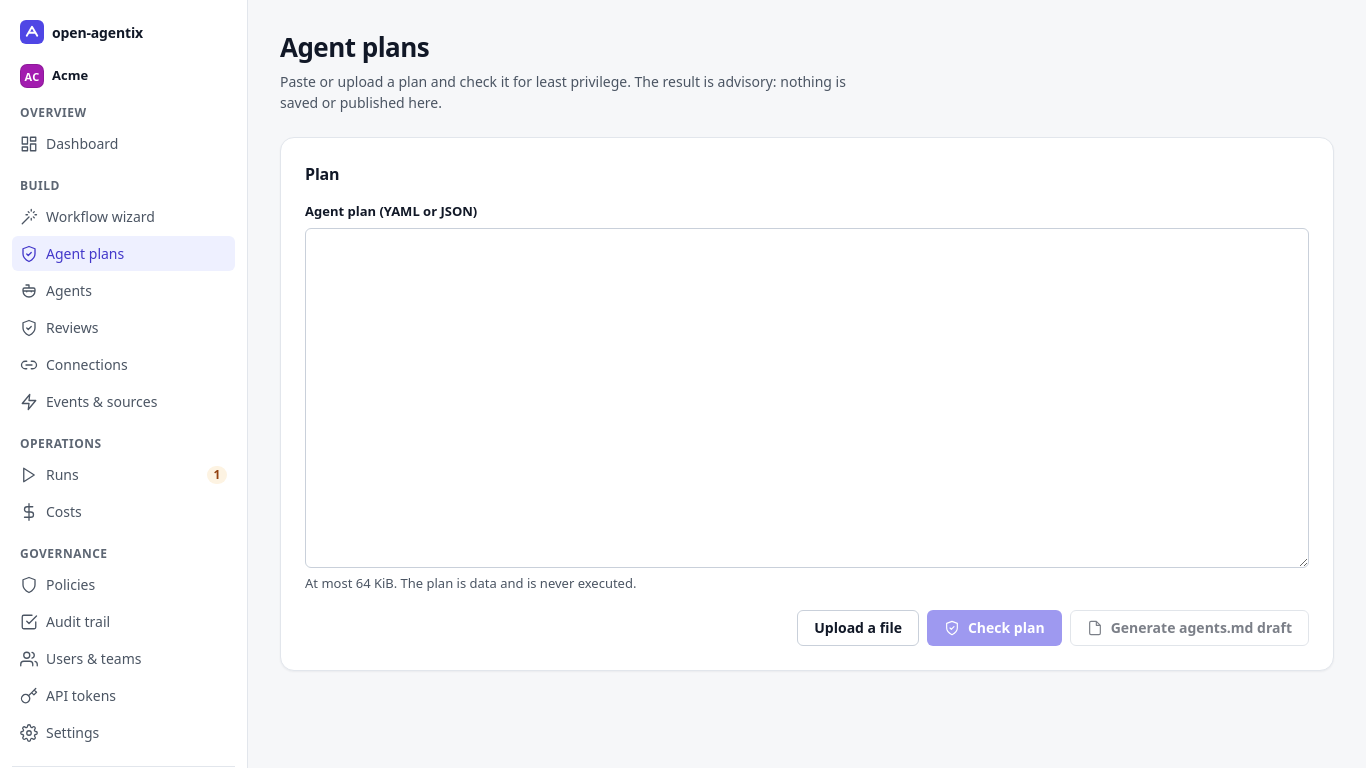
Test: plans page › says so when there are no findings
This screenshot has width=1366, height=768.
Step 1. Type "name: x" into the text box labelled "Agent plan (YAML or JSON)" → (807, 398), box [305,228,1309,568]
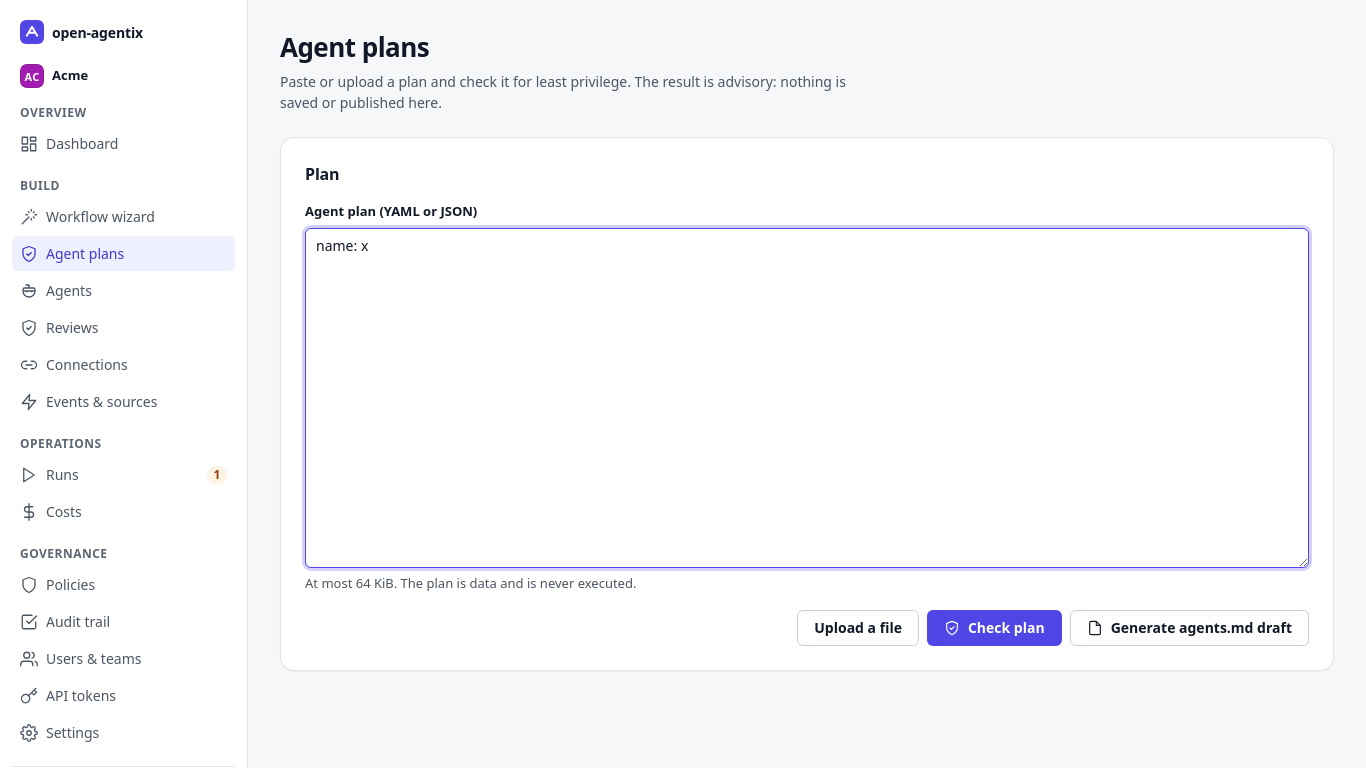
Step 2. Click the button "Check plan" → (994, 628), box [927,610,1062,646]
(page scrolled)
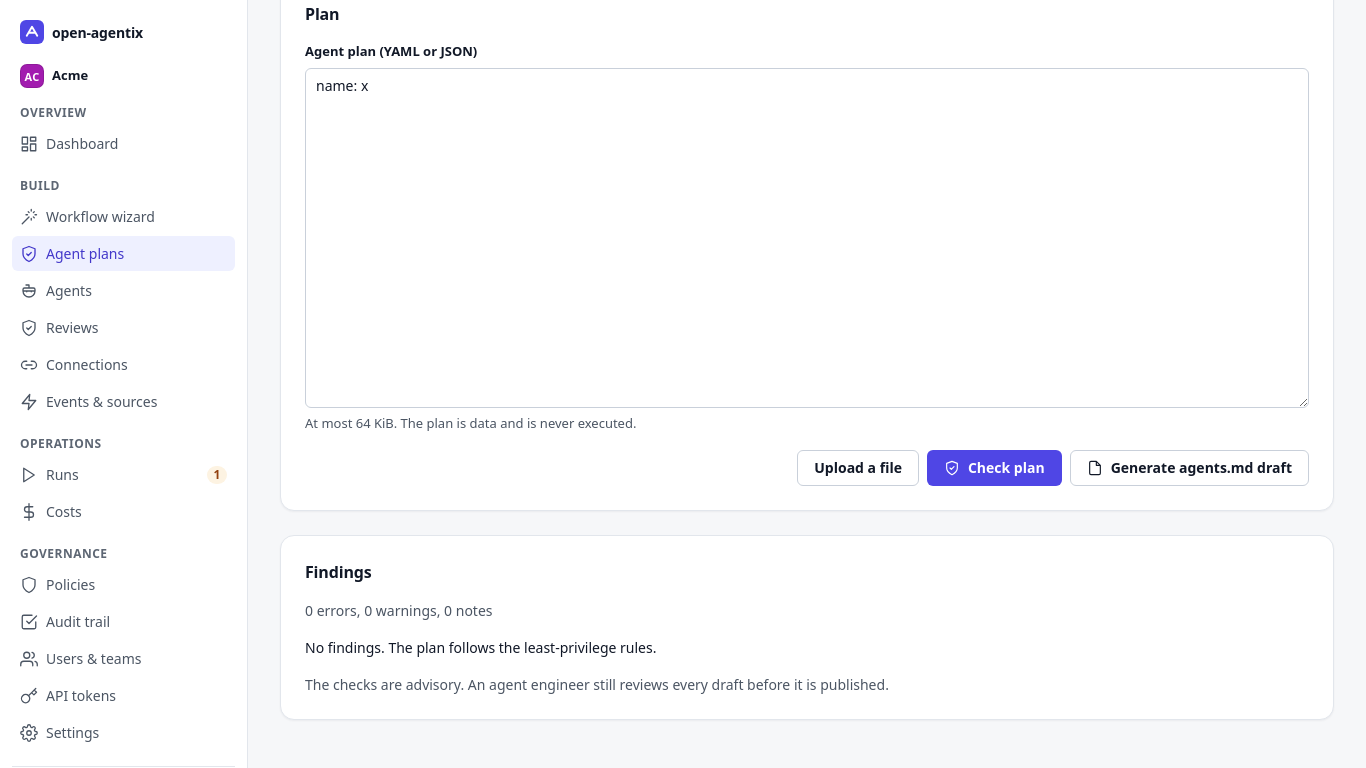
Expected: the text "No findings. The plan follows the least-privilege rules." is shown, [305,638,656,657]
